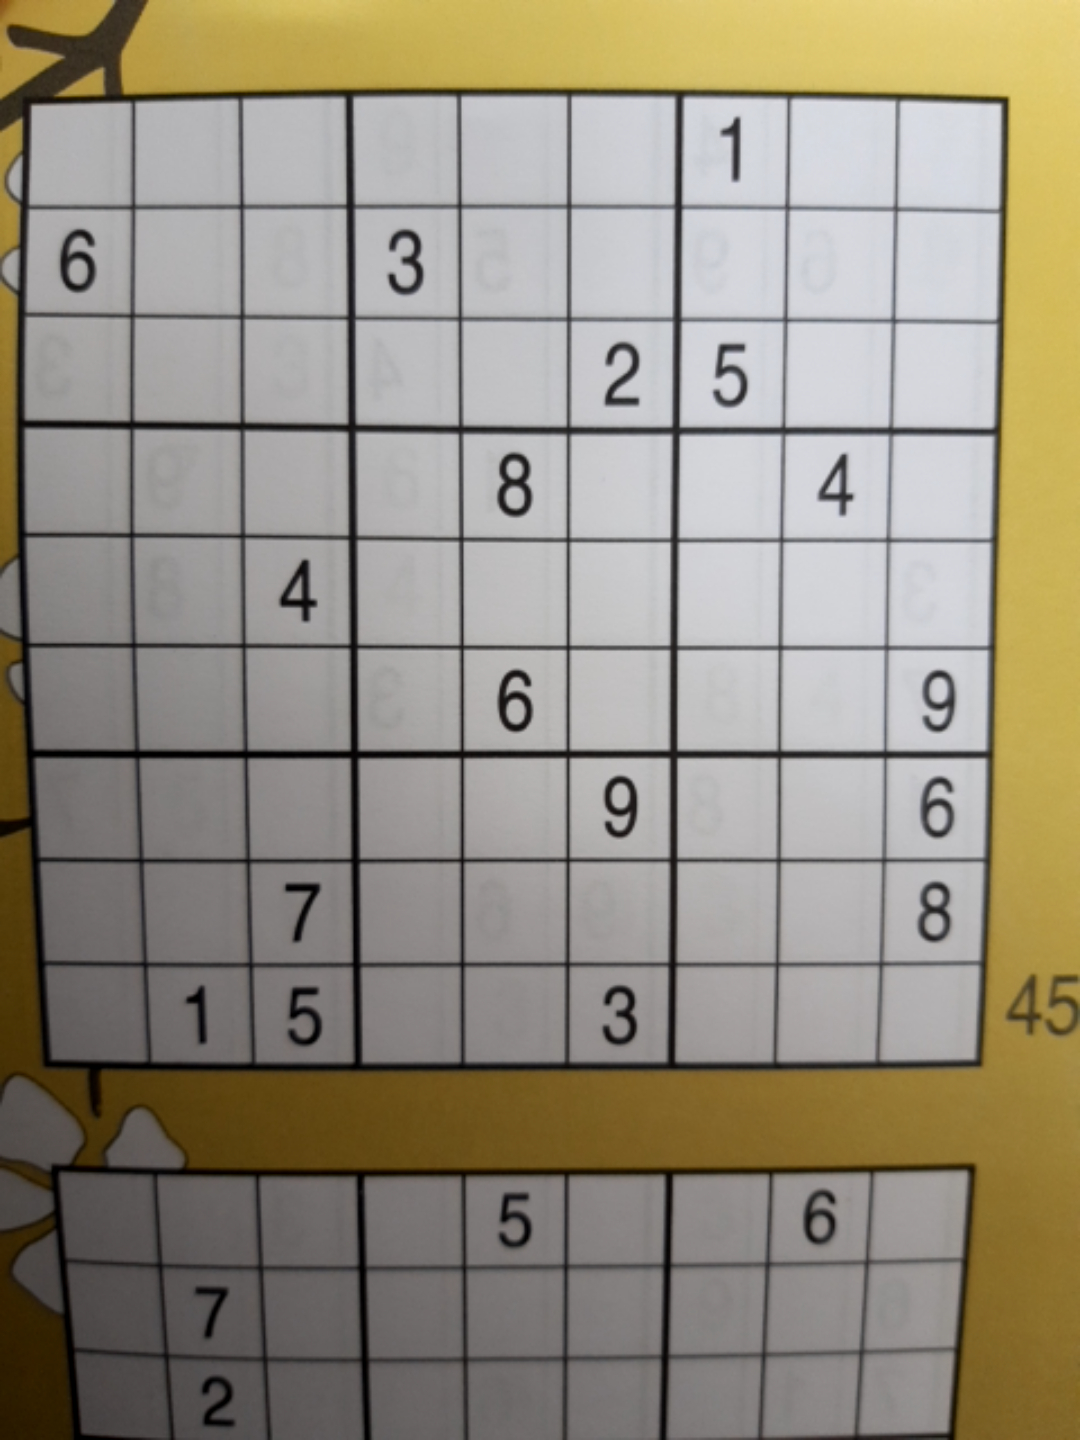sudoku: (15, 87, 1013, 1073)
